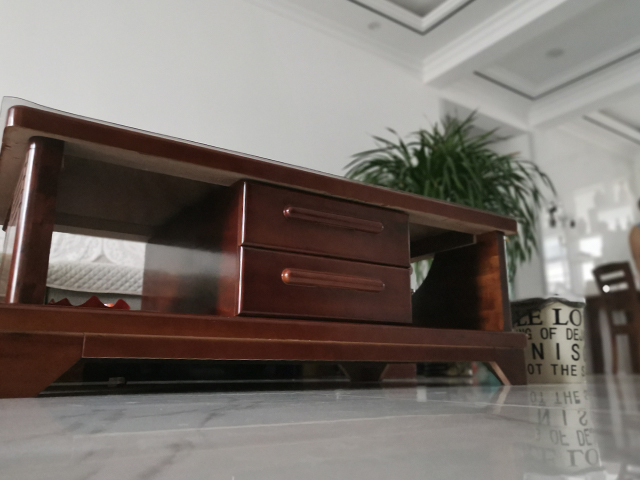stool: (590, 260, 640, 377)
table: (1, 94, 529, 402)
trashcan: (508, 291, 590, 387)
